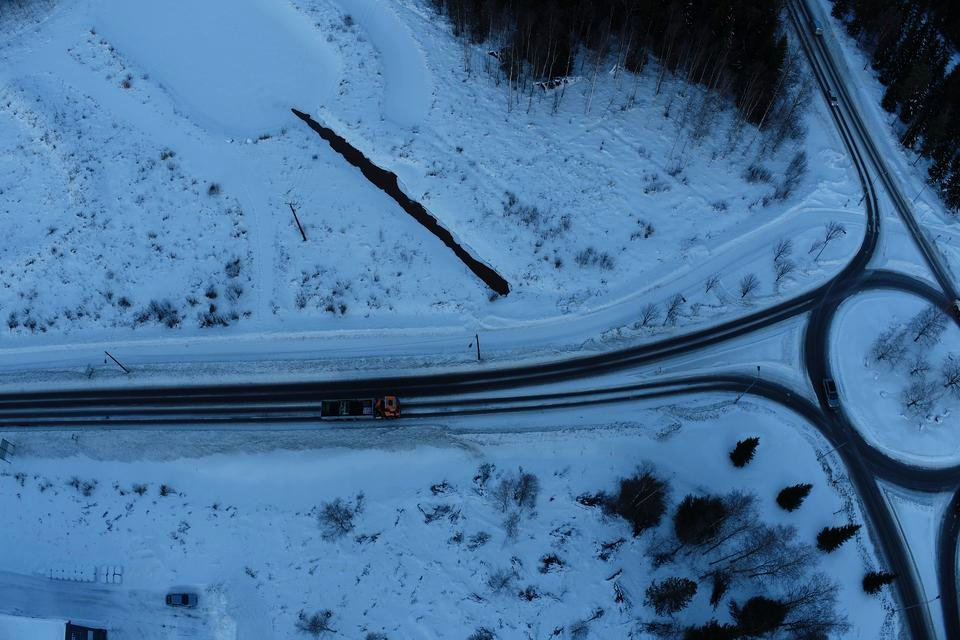roundabout: (778, 229, 960, 508)
